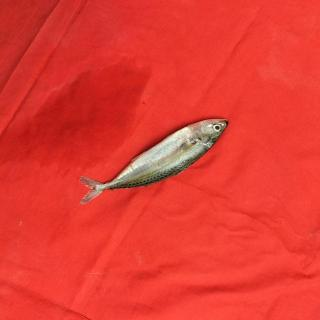Ikan: (67, 98, 241, 217)
